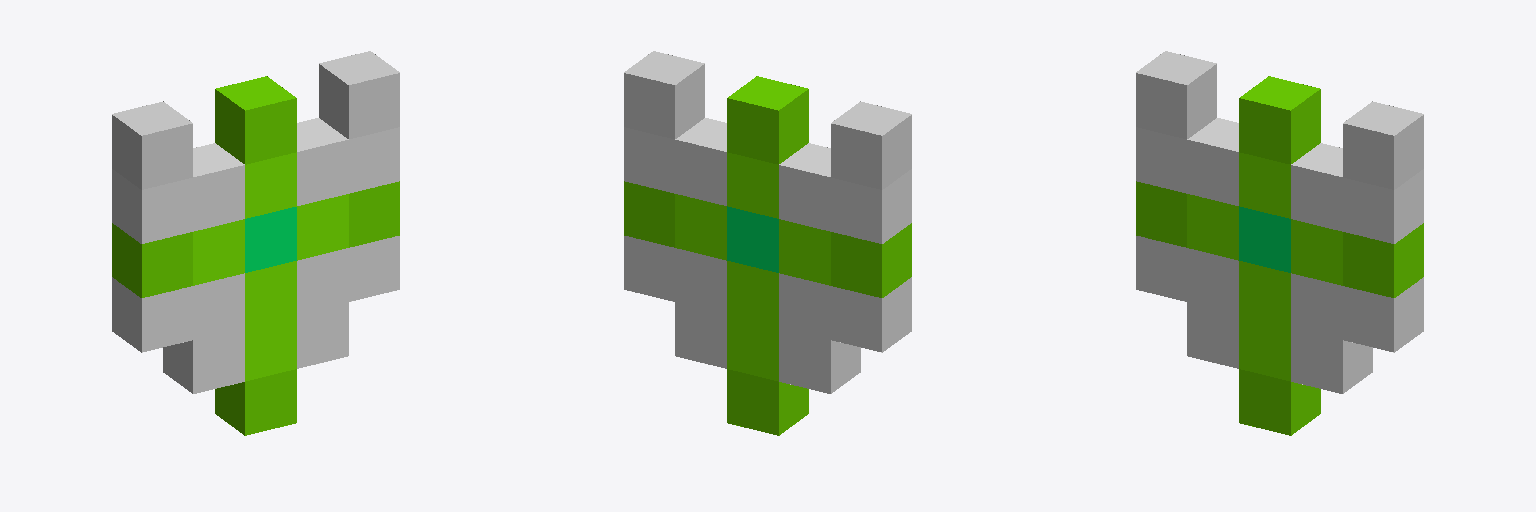
3 views of the same model, side by side, from view 1: azimuth 30°, elevation 25°; view 2: azimuth 150°, elevation 25°; view 3: azimuth 330°, elevation 25° (orthographic).
Visible parts, largest first — view 1: GuardianWeapon; view 2: GuardianWeapon; view 3: GuardianWeapon.
Part boxes in pixels (left/top/right/bottom): GuardianWeapon: left=112, top=51, right=399, bottom=435; GuardianWeapon: left=624, top=51, right=911, bottom=435; GuardianWeapon: left=1136, top=51, right=1423, bottom=435.
Bounding box in the file's own units: 5 × 6 × 1.
1 materials, 1 textured.